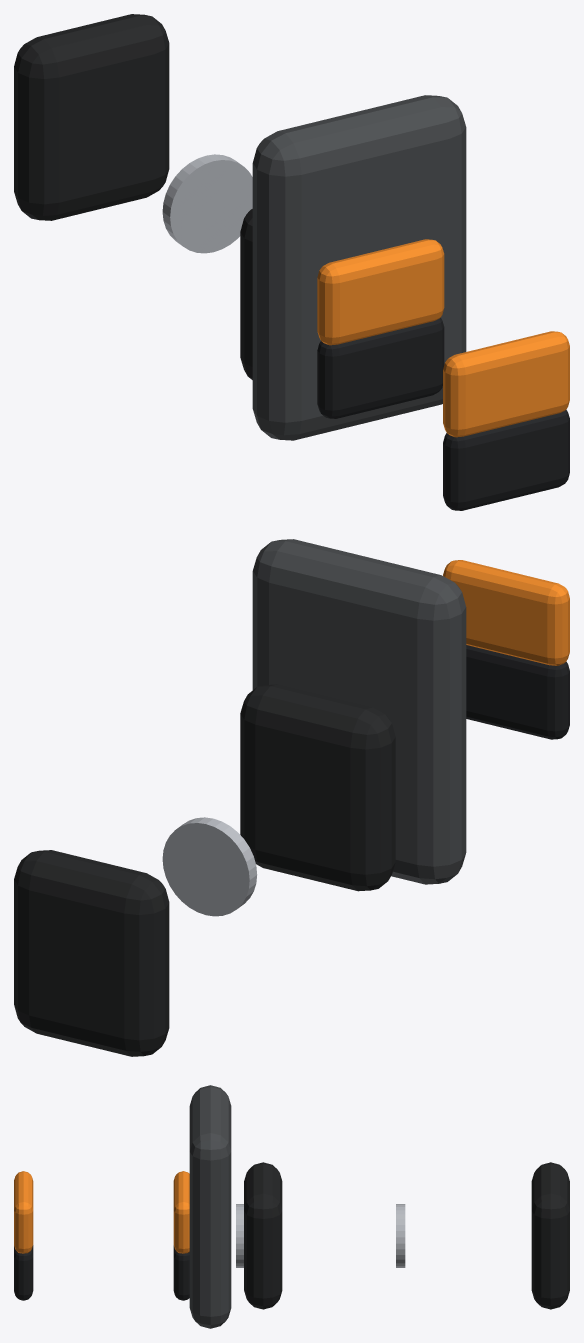
The model's file is zwift-click-v1.glb.
3 renders of one model, top to bottom at view 1: azimuth 30°, elevation 25°; view 2: azimuth 150°, elevation 25°; view 3: azimuth 270°, elevation 25°, orthographic. The views are drawn at different scales.
Visible parts, largest first — view 1: zwift-click-v1_BODY_EXPLODED, zwift-click-v1_BAR_STRAP_EXPLODED, zwift-click-v1_BODY, zwift-click-v1_UP_BUTTON, zwift-click-v1_UP_BUTTON_EXPLODED, zwift-click-v1_DOWN_BUTTON, zwift-click-v1_DOWN_BUTTON_EXPLODED, zwift-click-v1_CR2032_EXPLODED, zwift-click-v1_BAR_STRAP; view 2: zwift-click-v1_BODY_EXPLODED, zwift-click-v1_BAR_STRAP_EXPLODED, zwift-click-v1_BAR_STRAP, zwift-click-v1_BODY, zwift-click-v1_UP_BUTTON_EXPLODED, zwift-click-v1_DOWN_BUTTON_EXPLODED, zwift-click-v1_CR2032_EXPLODED; view 3: zwift-click-v1_BODY_EXPLODED, zwift-click-v1_BAR_STRAP, zwift-click-v1_BAR_STRAP_EXPLODED, zwift-click-v1_BODY, zwift-click-v1_UP_BUTTON_EXPLODED, zwift-click-v1_UP_BUTTON, zwift-click-v1_DOWN_BUTTON_EXPLODED, zwift-click-v1_DOWN_BUTTON, zwift-click-v1_CR2032_EXPLODED, zwift-click-v1_CR2032.
Boxes of the visible parts, x1,y1,x2,y2 form: zwift-click-v1_BODY_EXPLODED: (252,95,466,330); zwift-click-v1_BAR_STRAP_EXPLODED: (14,14,169,220); zwift-click-v1_BODY: (252,219,466,440); zwift-click-v1_UP_BUTTON: (317,239,444,345); zwift-click-v1_UP_BUTTON_EXPLODED: (443,331,569,437); zwift-click-v1_DOWN_BUTTON: (317,317,444,418); zwift-click-v1_DOWN_BUTTON_EXPLODED: (443,409,569,510); zwift-click-v1_CR2032_EXPLODED: (162,154,252,253); zwift-click-v1_BAR_STRAP: (240,209,252,379); zwift-click-v1_BODY_EXPLODED: (252,539,466,775); zwift-click-v1_BAR_STRAP_EXPLODED: (14,850,169,1056); zwift-click-v1_BAR_STRAP: (240,684,395,891); zwift-click-v1_BODY: (254,666,466,884); zwift-click-v1_UP_BUTTON_EXPLODED: (443,560,569,665); zwift-click-v1_DOWN_BUTTON_EXPLODED: (466,645,569,739); zwift-click-v1_CR2032_EXPLODED: (162,817,257,916); zwift-click-v1_BODY_EXPLODED: (189,1085,231,1258); zwift-click-v1_BAR_STRAP: (244,1162,282,1309); zwift-click-v1_BAR_STRAP_EXPLODED: (531,1162,569,1309); zwift-click-v1_BODY: (189,1210,231,1328); zwift-click-v1_UP_BUTTON_EXPLODED: (14,1171,33,1253); zwift-click-v1_UP_BUTTON: (173,1171,189,1253); zwift-click-v1_DOWN_BUTTON_EXPLODED: (14,1245,33,1300); zwift-click-v1_DOWN_BUTTON: (173,1245,189,1300); zwift-click-v1_CR2032_EXPLODED: (396,1204,405,1267); zwift-click-v1_CR2032: (236,1204,243,1267).
Bounding box in the file's own units: 0.047 × 0.067 × 0.174.
